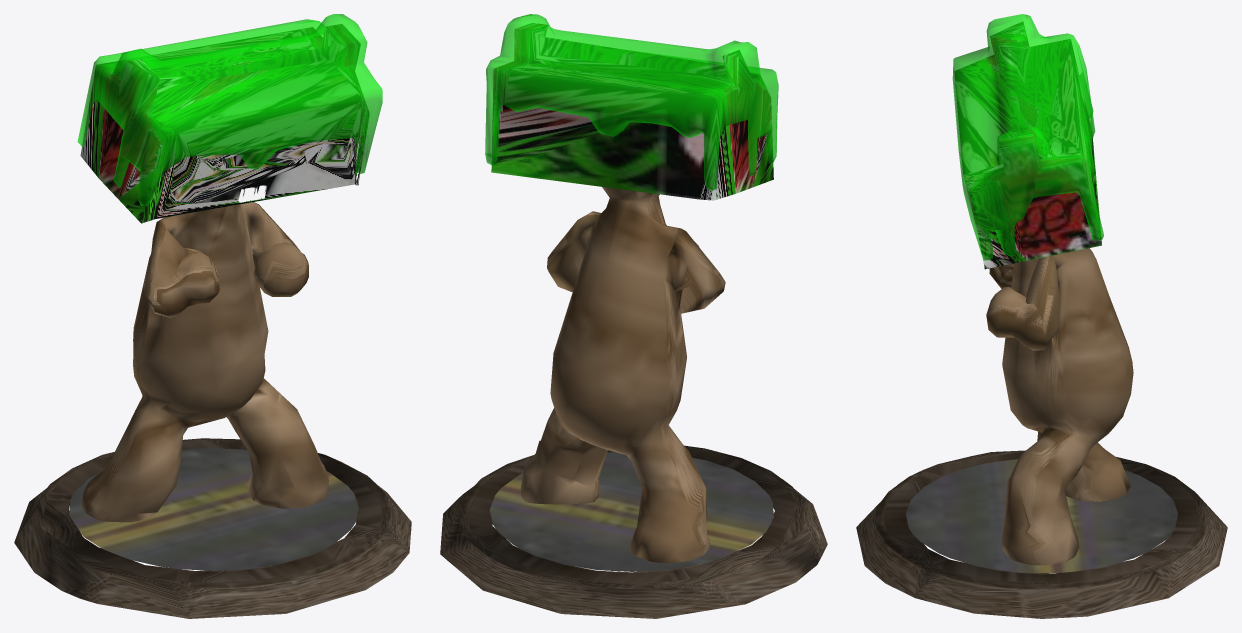
3 views of the same model, side by side, from view 1: azimuth 30°, elevation 25°; view 2: azimuth 150°, elevation 25°; view 3: azimuth 270°, elevation 25° (orthographic). The views are drawn at different scales.
Size of the model in its own units: 1.45 by 2.06 by 1.43.
Materials: 6 (4 with a texture image).
